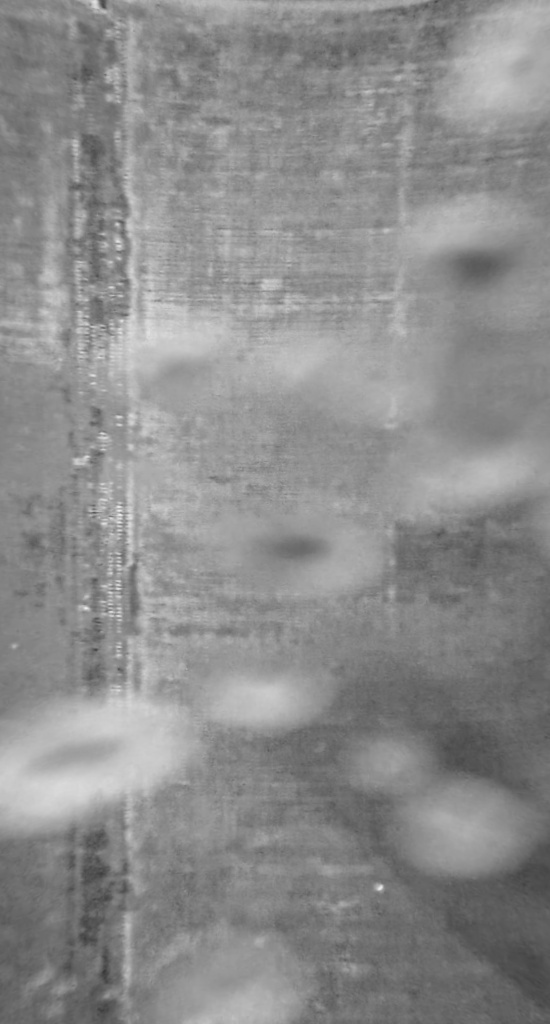splice: (58, 1, 155, 1023)
